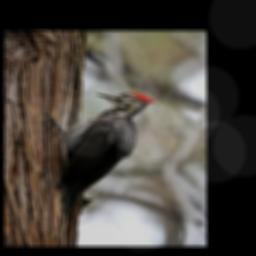Woodpecker: (43, 91, 156, 223)
